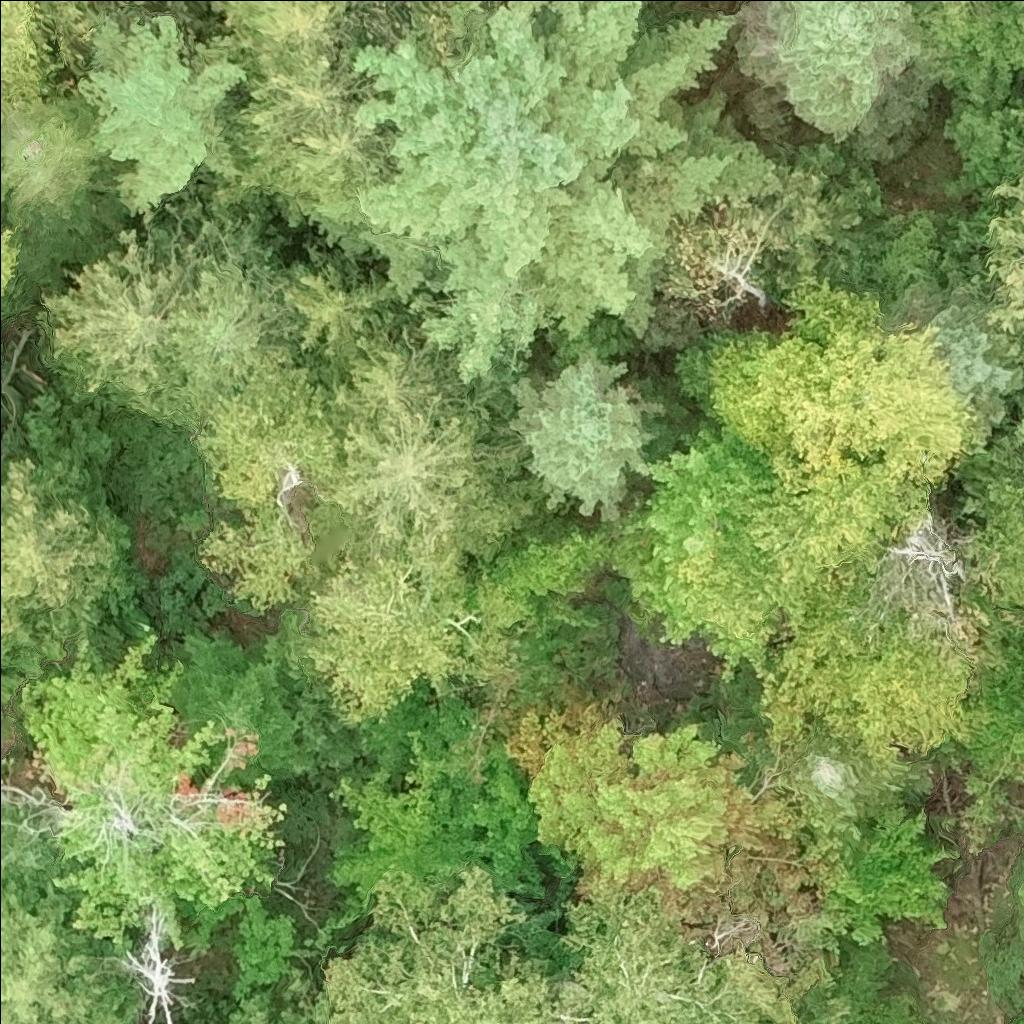crown: (281, 0, 791, 384), (19, 634, 290, 949), (571, 727, 845, 1004), (683, 278, 981, 494), (326, 685, 546, 909), (683, 463, 931, 652), (761, 597, 974, 787), (607, 435, 771, 681), (325, 865, 574, 1023), (304, 538, 511, 726), (73, 5, 251, 219), (318, 401, 543, 556), (552, 886, 802, 1023), (148, 215, 300, 431), (491, 346, 669, 525), (39, 227, 196, 415), (731, 0, 920, 143), (188, 342, 341, 509), (0, 94, 126, 286), (158, 633, 315, 786), (0, 456, 123, 647), (502, 679, 632, 857), (0, 870, 137, 1023), (203, 101, 395, 210), (284, 229, 411, 384), (762, 145, 884, 298), (321, 318, 477, 430), (831, 817, 955, 949), (201, 495, 315, 610), (238, 37, 372, 120), (964, 437, 1023, 617), (932, 308, 1023, 412), (775, 740, 880, 830), (204, 0, 359, 60), (911, 0, 1023, 82), (798, 949, 921, 1023), (127, 906, 201, 1023), (982, 167, 1023, 340), (0, 0, 57, 116), (218, 970, 327, 1023), (37, 0, 164, 42), (497, 0, 600, 33), (0, 210, 28, 306), (1015, 409, 1023, 452), (1013, 1021, 1023, 1023)
